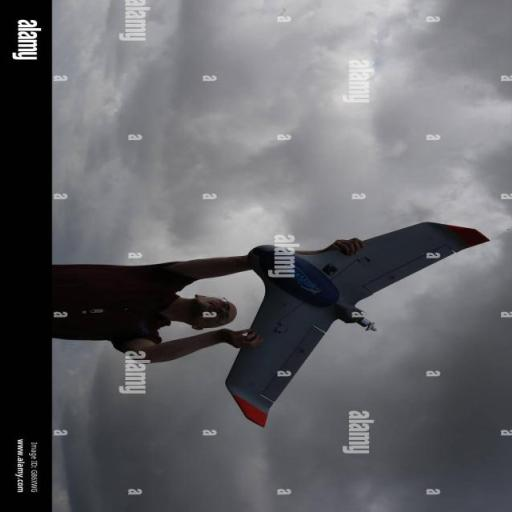uav: (226, 220, 496, 462)
